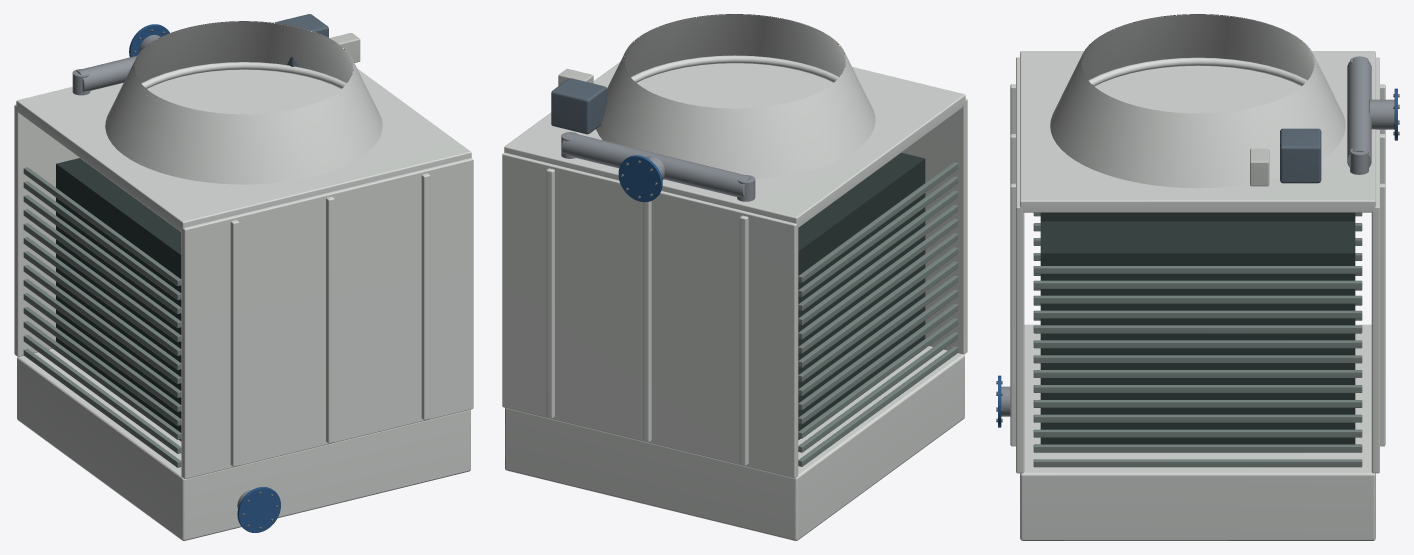
File: tower.e300dcf1.glb
3 renders of one model, left to right at view 1: azimuth 30°, elevation 25°; view 2: azimuth 150°, elevation 25°; view 3: azimuth 270°, elevation 25°, orthographic. The views are drawn at different scales.
Parts seen in each view (by area): view 1: casing, fanStack, louvres, fill, nozzles, fanMotor; view 2: casing, fanStack, louvres, fill, nozzles, fanMotor; view 3: casing, fill, louvres, fanStack, nozzles, fanMotor.
Part boxes in pixels (left/top/right/bottom): casing: left=14, top=68, right=473, bottom=540; fanStack: left=105, top=21, right=382, bottom=184; louvres: left=23, top=167, right=181, bottom=467; fill: left=56, top=158, right=181, bottom=441; nozzles: left=72, top=24, right=280, bottom=532; fanMotor: left=275, top=14, right=360, bottom=67; casing: left=502, top=62, right=967, bottom=540; fanStack: left=596, top=14, right=875, bottom=178; louvres: left=798, top=162, right=958, bottom=466; fill: left=798, top=153, right=925, bottom=439; nozzles: left=561, top=132, right=755, bottom=202; fanMotor: left=551, top=68, right=606, bottom=134; casing: left=1010, top=51, right=1385, bottom=540; fill: left=1040, top=212, right=1355, bottom=444; louvres: left=1033, top=212, right=1362, bottom=467; fanStack: left=1050, top=14, right=1345, bottom=188; nozzles: left=996, top=56, right=1399, bottom=427; fanMotor: left=1250, top=128, right=1321, bottom=186.
Bounding box in the file's own units: 2.6 × 3.25 × 2.95.
